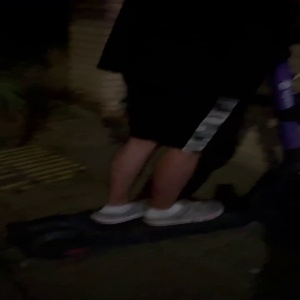human on a scooter: (5, 1, 300, 265)
